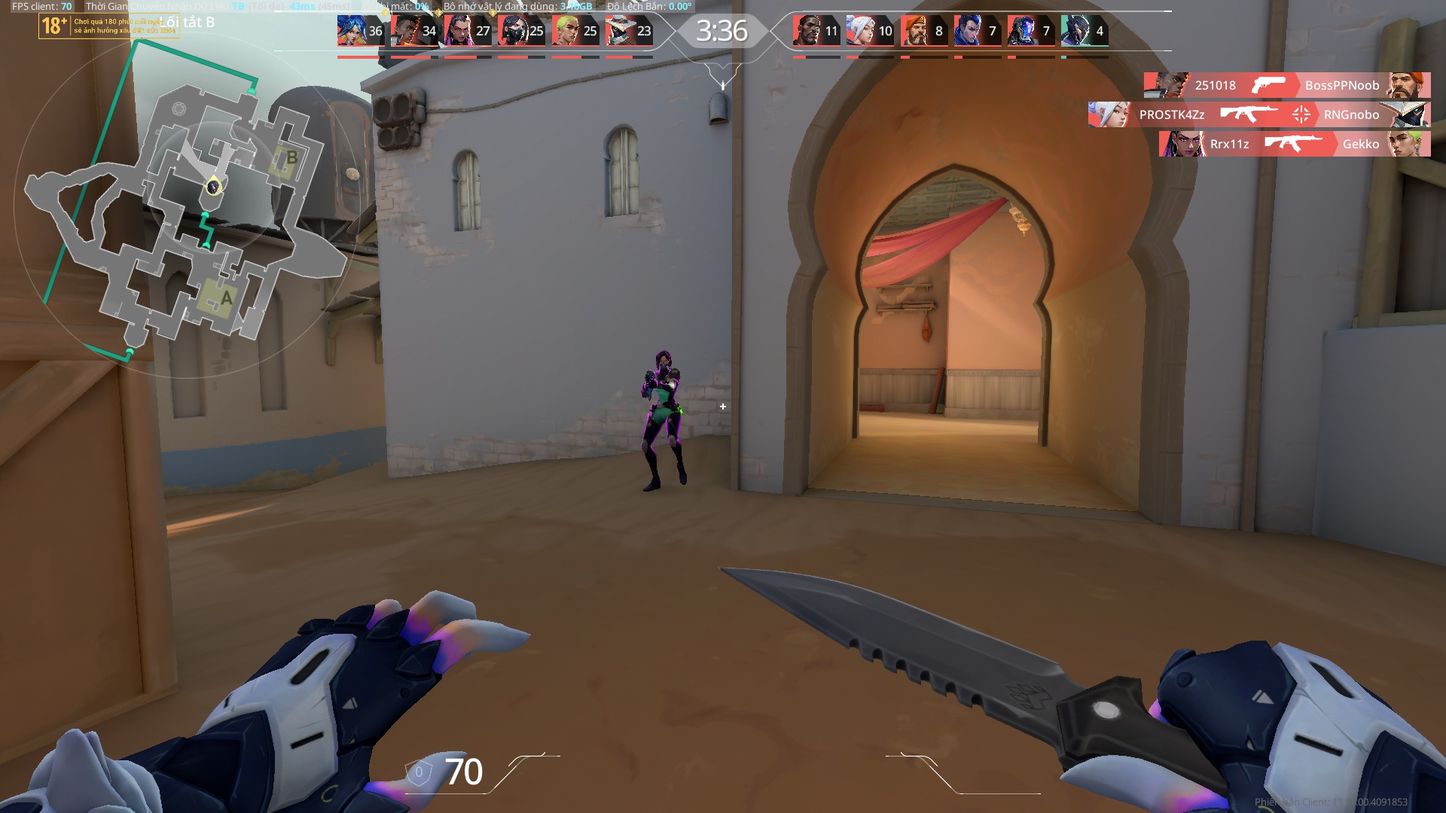body: (642, 367, 683, 416)
head: (654, 349, 672, 372)
